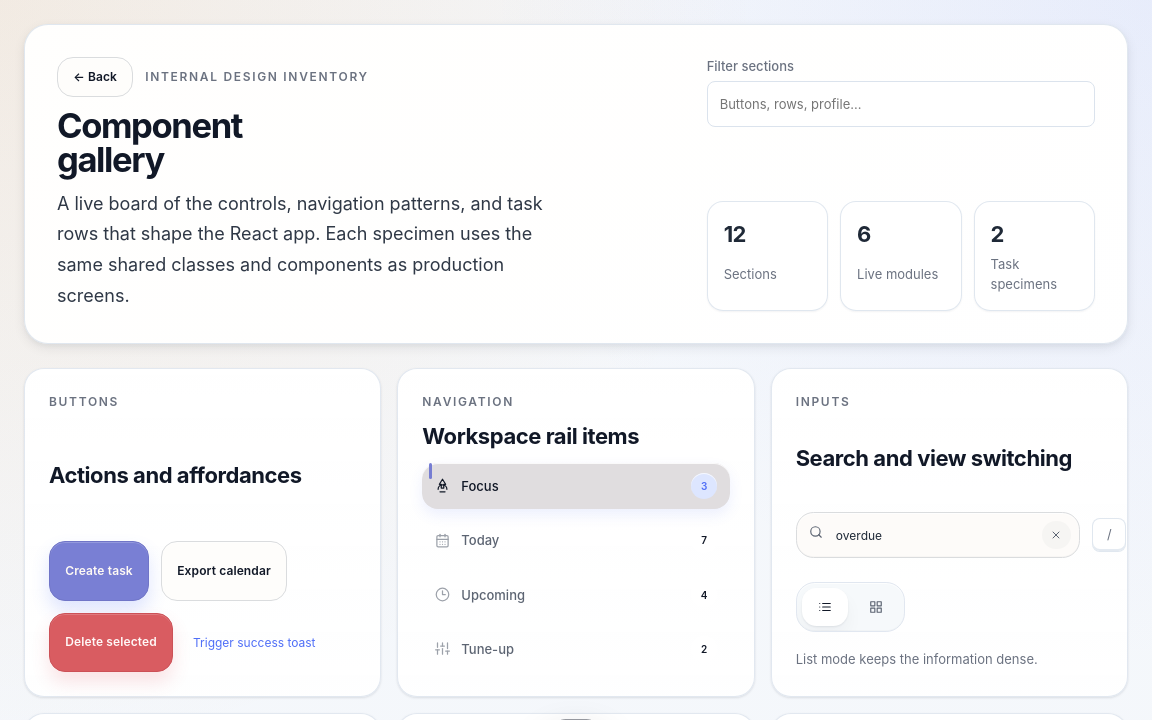
it: ComponentGalleryPage › filters sections when filter text is typed
This screenshot has width=1152, height=720.
Expected: the heading "Actions and affordances" is shown, [49,462,302,488]
In the field with placeholder "Buttons, rows, profile…": (901, 104) [707,80,1095,126], type "buttons"
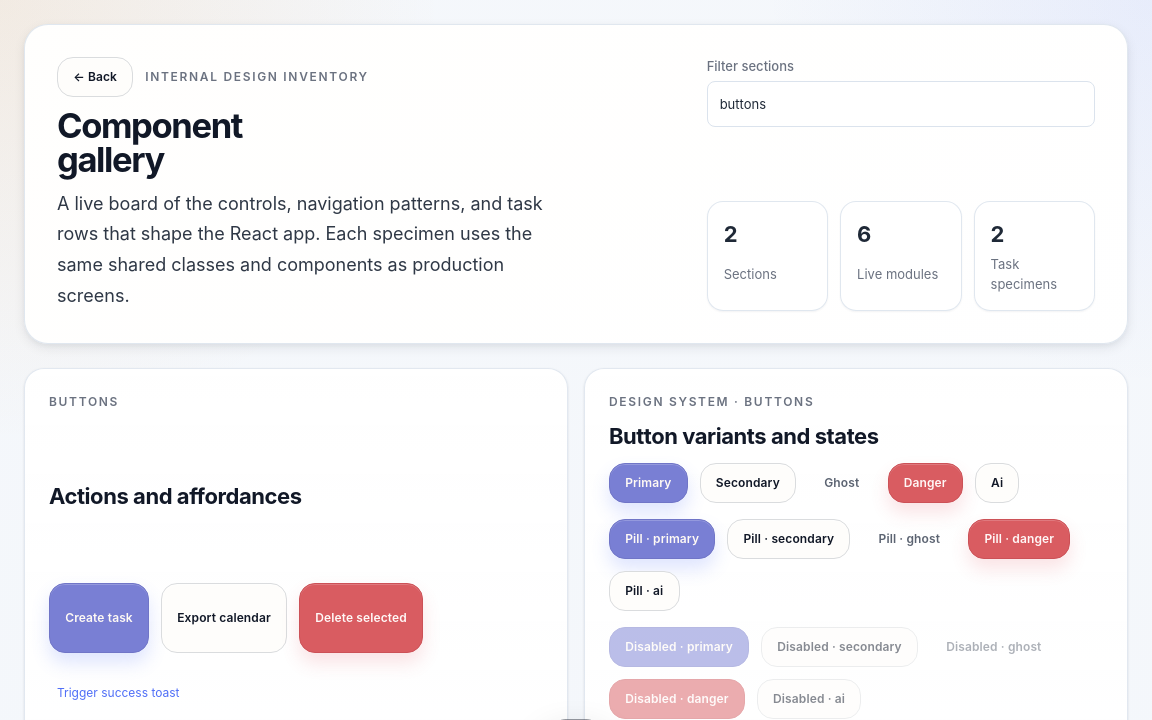
Expected: the heading "Actions and affordances" is shown, [49,483,302,509]
Expected: the heading "Workspace rail items" is gone
